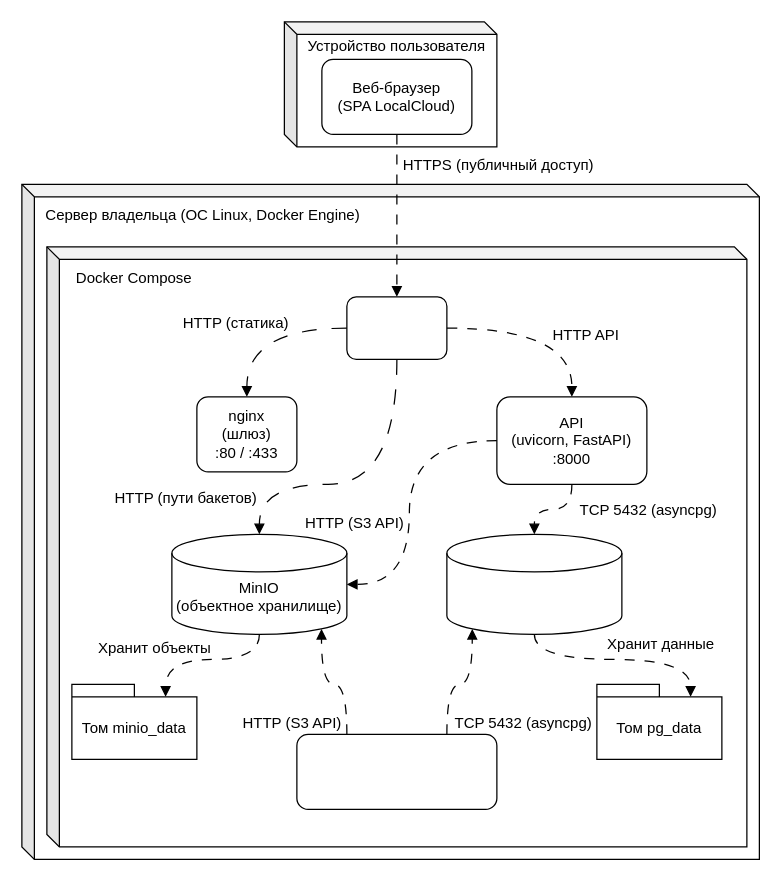
Some shapes in this 781 by 881 pixel diagram are drawn without their labels. The centre of each missing label's shape, as x and y in pixels:
"nginx (статика SPA)" goes at (x=396, y=327).
"PostgreSQL 16" goes at (x=534, y=583).
"Worker (python -m workers.app)" goes at (x=396, y=771).
